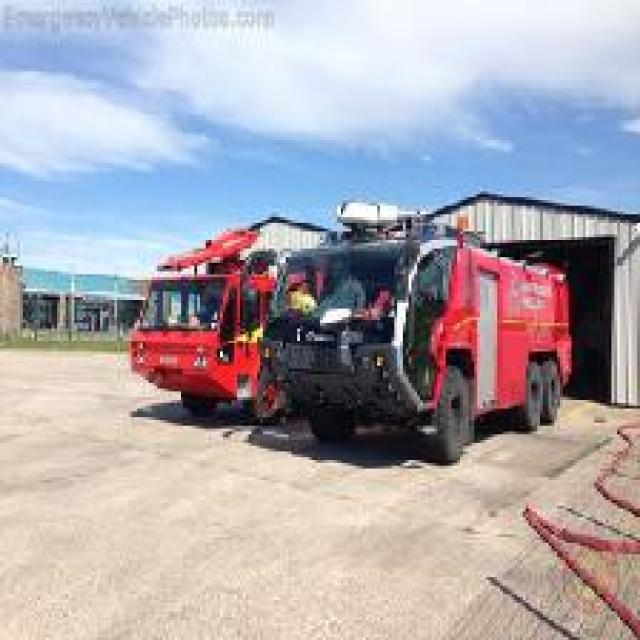emergency: (256, 228, 576, 466), (128, 231, 350, 423)
